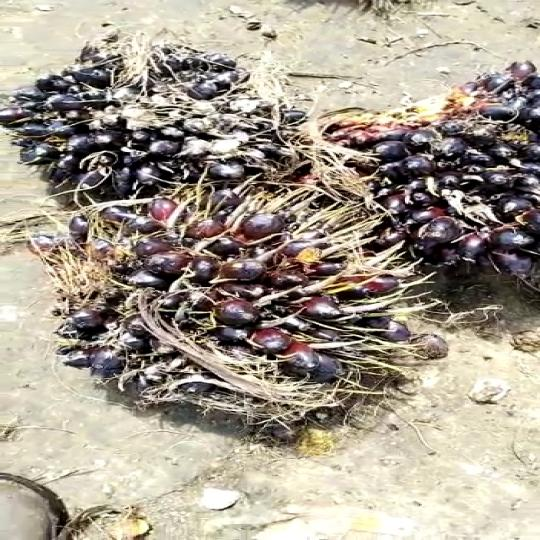mentah: (48, 199, 465, 463), (12, 45, 332, 194), (345, 88, 540, 274)
